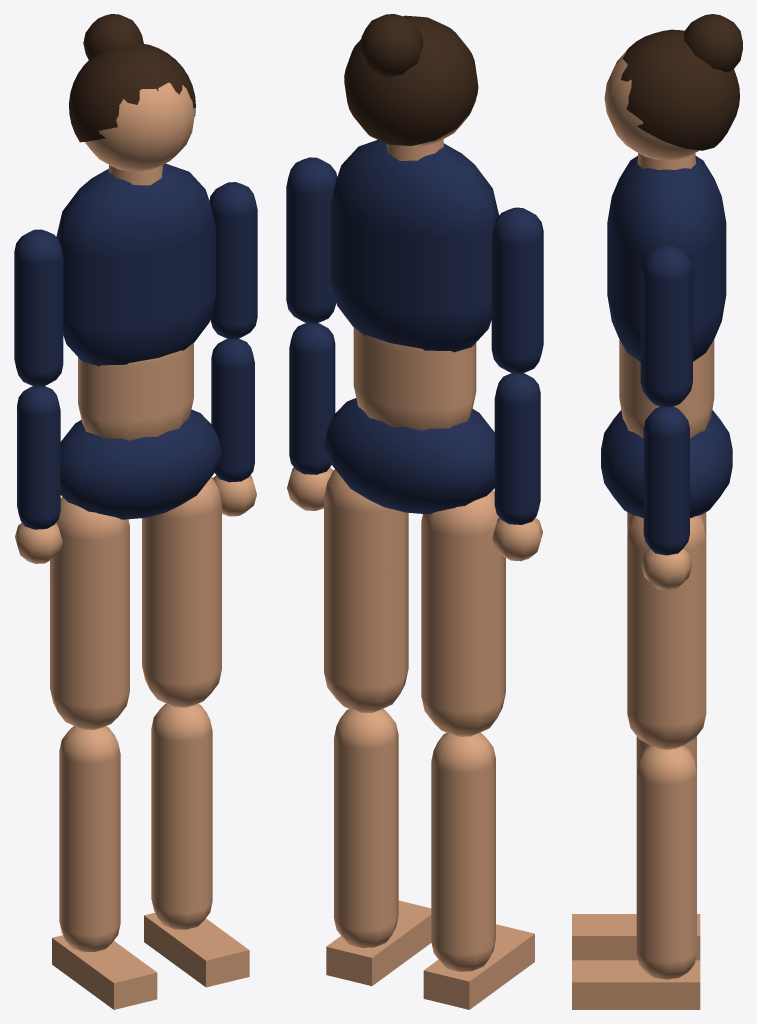
File: athlete.glb
3 views of the same model, side by side, from view 1: azimuth 30°, elevation 25°; view 2: azimuth 150°, elevation 25°; view 3: azimuth 270°, elevation 25° (orthographic). The views are drawn at different scales.
Visible parts, largest first — view 1: Castell_Torso_chest, Castell_Thigh_R_thigh, Castell_Thigh_L_thigh, Castell_Knee_L_shin, Castell_Knee_R_shin, Castell_Hips_pelvis, Castell_Torso_waist, Castell_Arm_R_upper, Castell_Torso_hair, Castell_Arm_L_upper, Castell_Torso_head, Castell_Elbow_R_fore (+7 smaller); view 2: Castell_Torso_chest, Castell_Thigh_R_thigh, Castell_Thigh_L_thigh, Castell_Knee_R_shin, Castell_Knee_L_shin, Castell_Hips_pelvis, Castell_Torso_hair, Castell_Torso_waist, Castell_Arm_R_upper, Castell_Arm_L_upper, Castell_Elbow_R_fore, Castell_Elbow_L_fore (+6 smaller); view 3: Castell_Torso_chest, Castell_Thigh_L_thigh, Castell_Knee_L_shin, Castell_Torso_hair, Castell_Arm_L_upper, Castell_Hips_pelvis, Castell_Elbow_L_fore, Castell_Knee_L_foot, Castell_Torso_waist, Castell_Knee_R_foot, Castell_Torso_head, Castell_Torso_bun (+2 smaller).
Boxes of the visible parts, x1,y1,x2,y2 form: Castell_Torso_chest: [56, 163, 215, 366]; Castell_Thigh_R_thigh: [50, 497, 129, 729]; Castell_Thigh_L_thigh: [142, 477, 221, 707]; Castell_Knee_L_shin: [151, 703, 212, 929]; Castell_Knee_R_shin: [59, 726, 120, 952]; Castell_Hips_pelvis: [60, 409, 221, 519]; Castell_Torso_waist: [78, 343, 193, 440]; Castell_Arm_R_upper: [14, 229, 63, 386]; Castell_Torso_hair: [69, 43, 195, 142]; Castell_Arm_L_upper: [209, 182, 257, 339]; Castell_Torso_head: [85, 82, 195, 171]; Castell_Elbow_R_fore: [17, 386, 60, 529]; Castell_Torso_chest: [330, 140, 498, 352]; Castell_Thigh_R_thigh: [421, 490, 505, 736]; Castell_Thigh_L_thigh: [324, 469, 408, 713]; Castell_Knee_R_shin: [431, 732, 495, 971]; Castell_Knee_L_shin: [334, 709, 398, 947]; Castell_Hips_pelvis: [324, 398, 494, 514]; Castell_Torso_hair: [344, 15, 478, 145]; Castell_Torso_waist: [353, 327, 476, 430]; Castell_Arm_R_upper: [491, 207, 543, 373]; Castell_Arm_L_upper: [286, 157, 337, 323]; Castell_Elbow_R_fore: [494, 373, 540, 524]; Castell_Elbow_L_fore: [289, 323, 335, 474]; Castell_Torso_chest: [607, 156, 726, 361]; Castell_Thigh_L_thigh: [627, 514, 706, 749]; Castell_Knee_L_shin: [636, 745, 696, 979]; Castell_Torso_hair: [621, 29, 739, 150]; Castell_Arm_L_upper: [640, 244, 692, 407]; Castell_Hips_pelvis: [601, 410, 732, 517]; Castell_Elbow_L_fore: [643, 406, 689, 555]; Castell_Knee_L_foot: [572, 960, 700, 1009]; Castell_Torso_waist: [619, 340, 714, 438]; Castell_Knee_R_foot: [572, 914, 700, 960]; Castell_Torso_head: [604, 50, 698, 160]; Castell_Torso_bun: [684, 14, 742, 72].
Bounding box in the file's own units: 0.466 × 1.73 × 0.2795.
